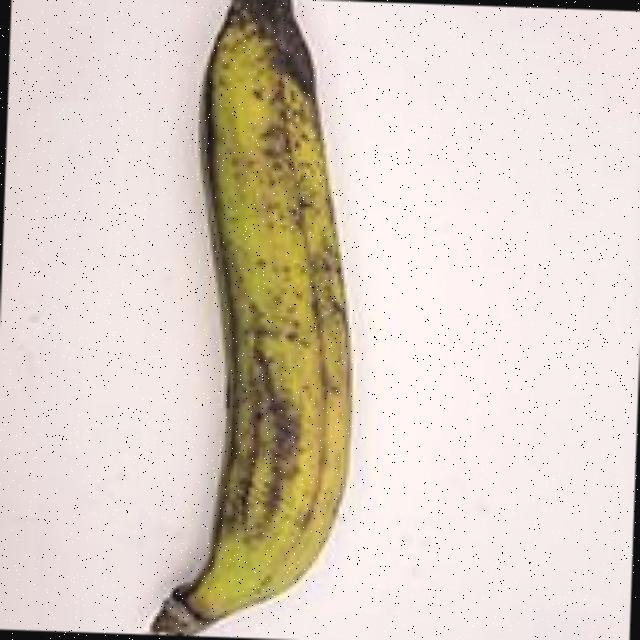Overripe: (67, 0, 428, 640)
